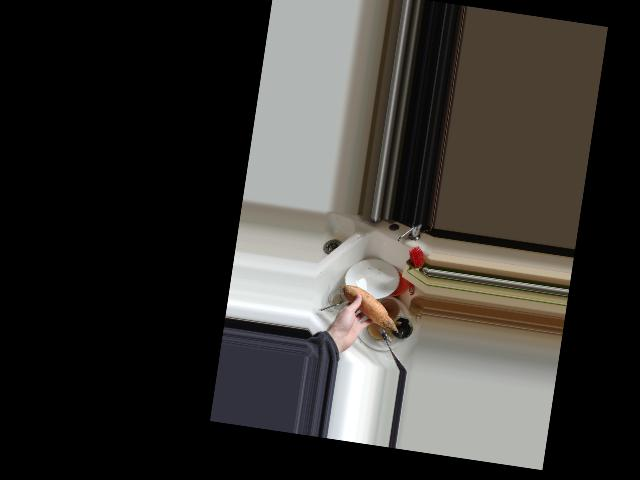sweet_potato: (336, 282, 402, 334)
